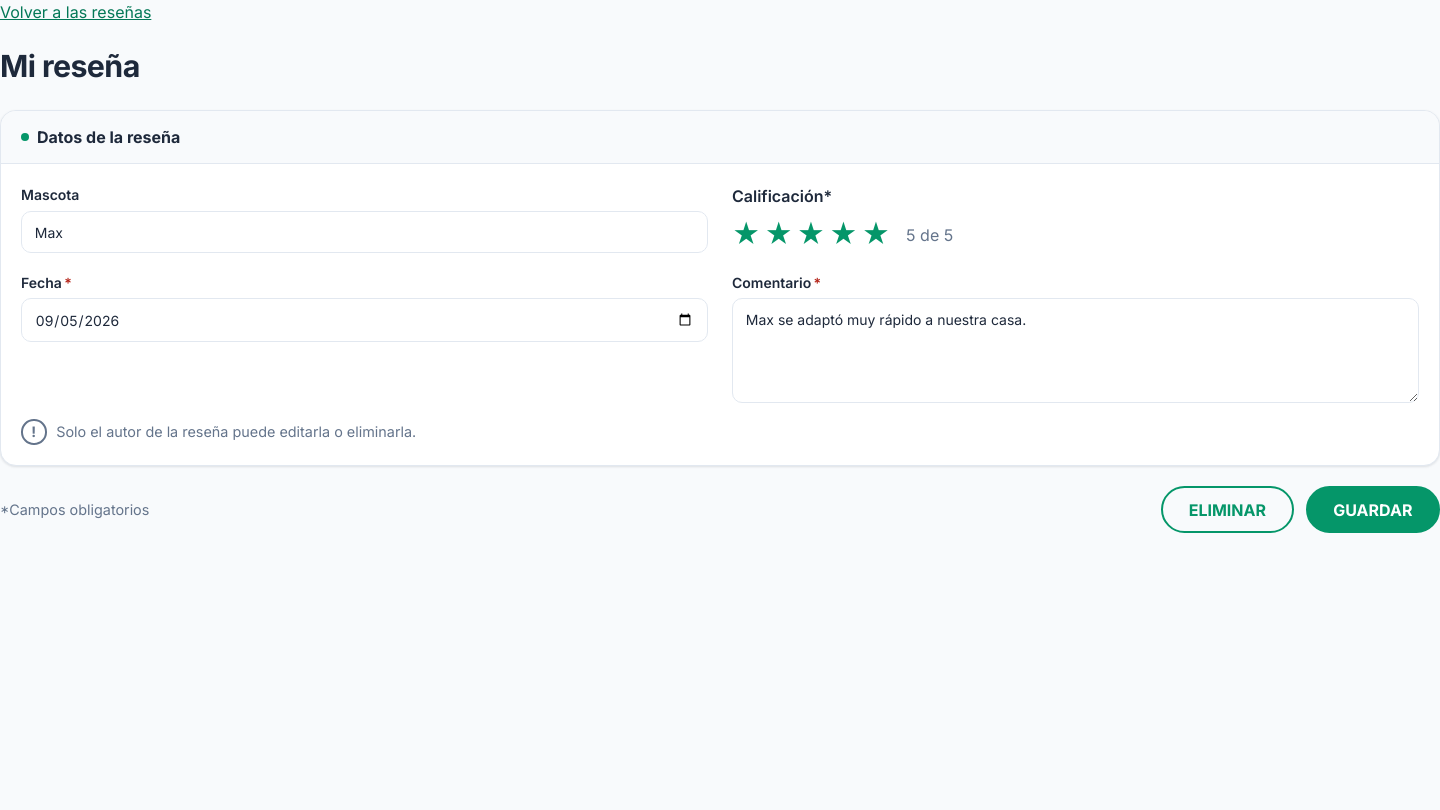
Test: EditReviewPage › shows the back-end error when the deletion is refused
Expected: the form named "Edición de reseña" is shown, [0, 110, 1439, 533]
Click the button "Eliminar" at (1227, 510), box [1161, 486, 1294, 533]
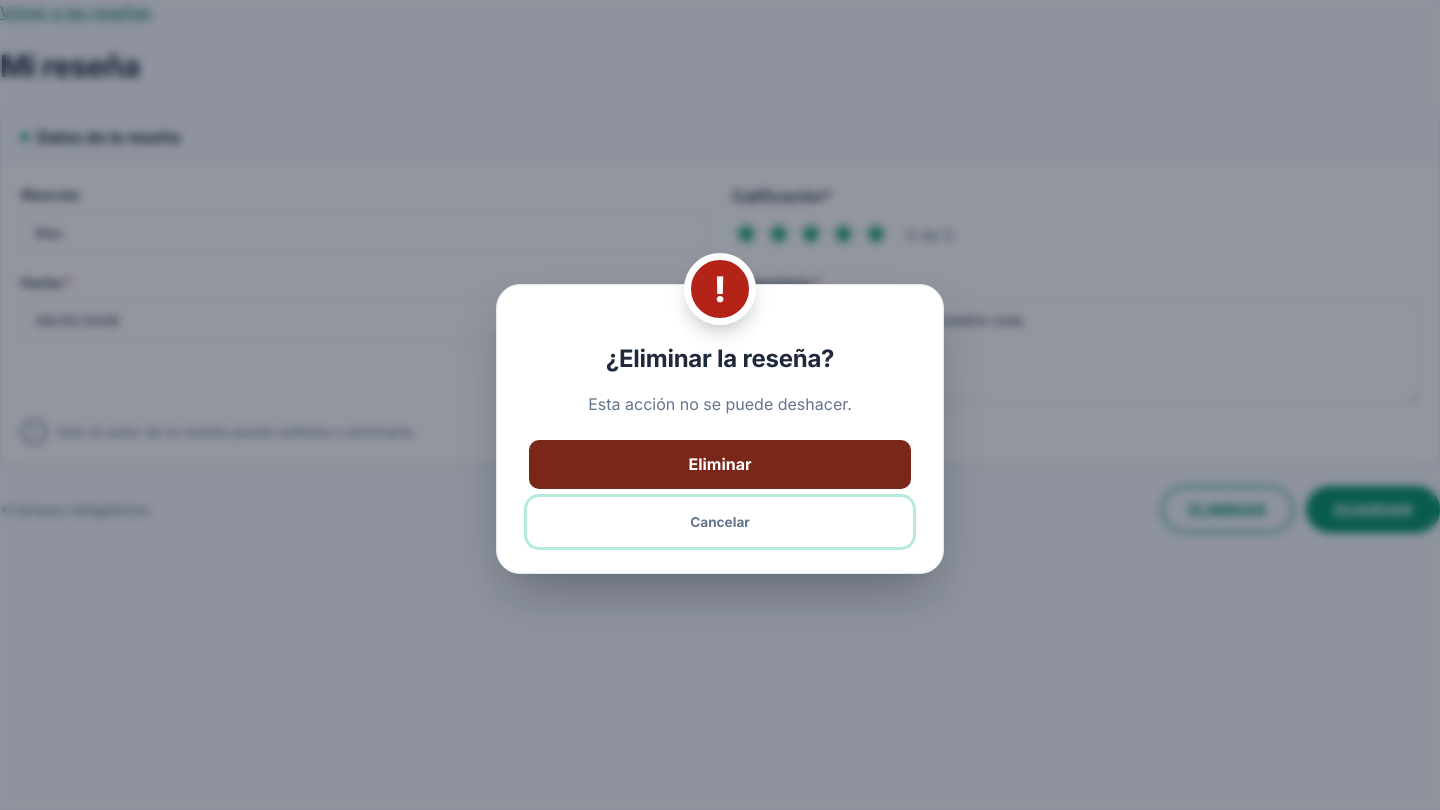
Click the button "Eliminar" at (720, 464), box [529, 440, 911, 489]
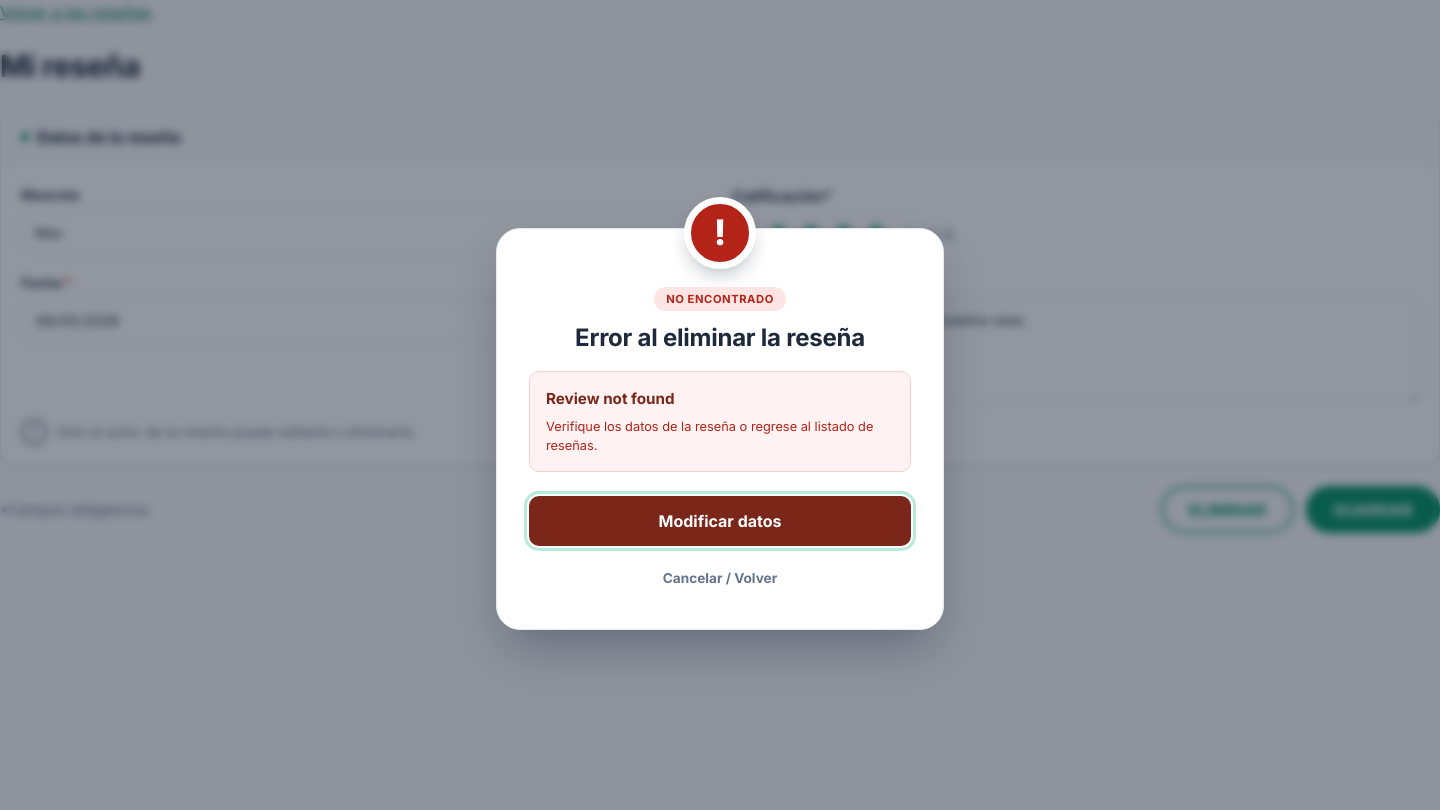
Expected: the dialog shows "Error al eliminar la reseña", [575, 323, 865, 352]
